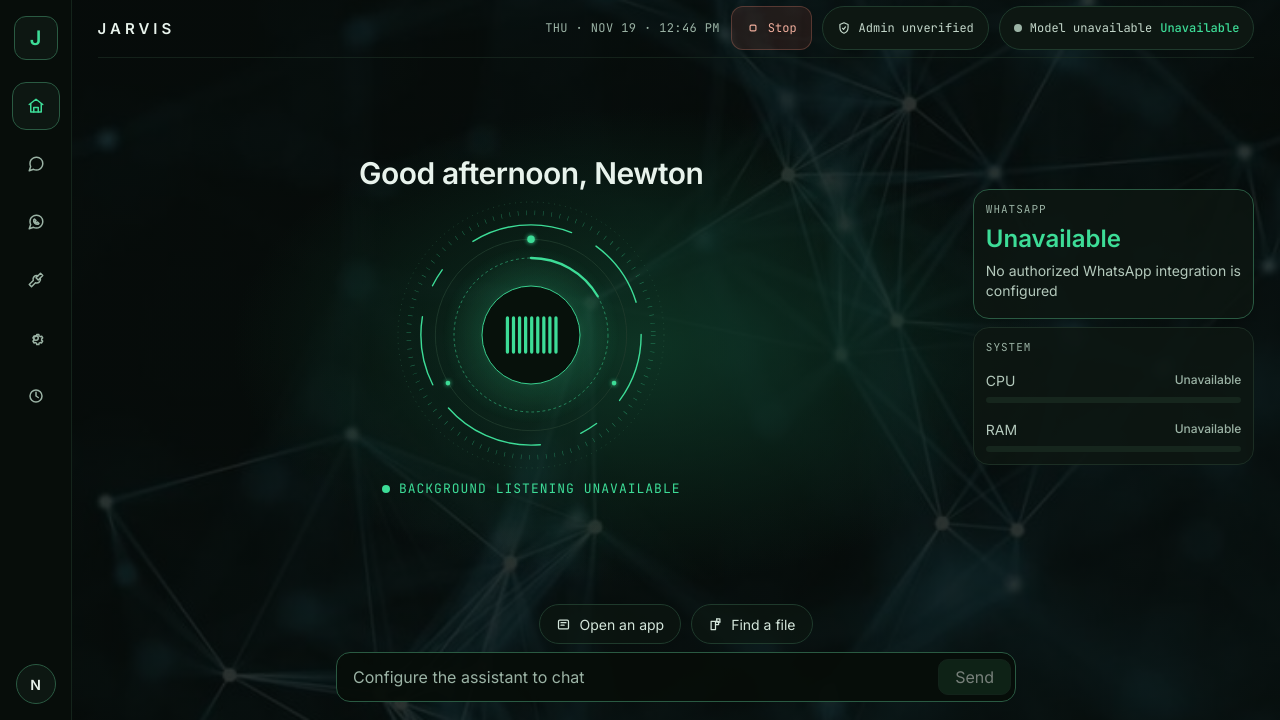
Test: JARVIS voice-first home › opens settings and tools inside the same JARVIS shell
Click the button named "Settings".
click(36, 338)  # box x1=12 y1=314 x2=60 y2=362
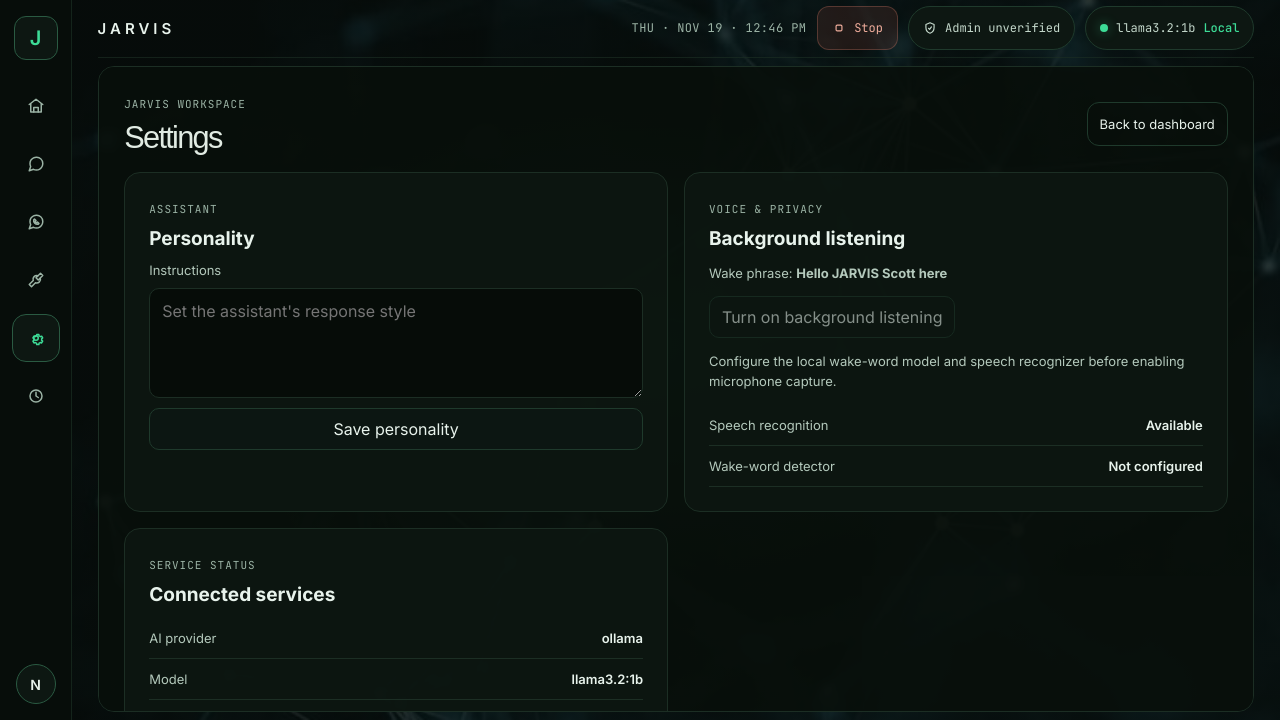
Check: the heading "Settings" is shown, box x1=124 y1=120 x2=222 y2=155
Check: the button "Turn on background listening" is disabled, box x1=709 y1=296 x2=956 y2=338
Click the button "Back to dashboard".
click(1157, 124)  # box x1=1087 y1=102 x2=1228 y2=146
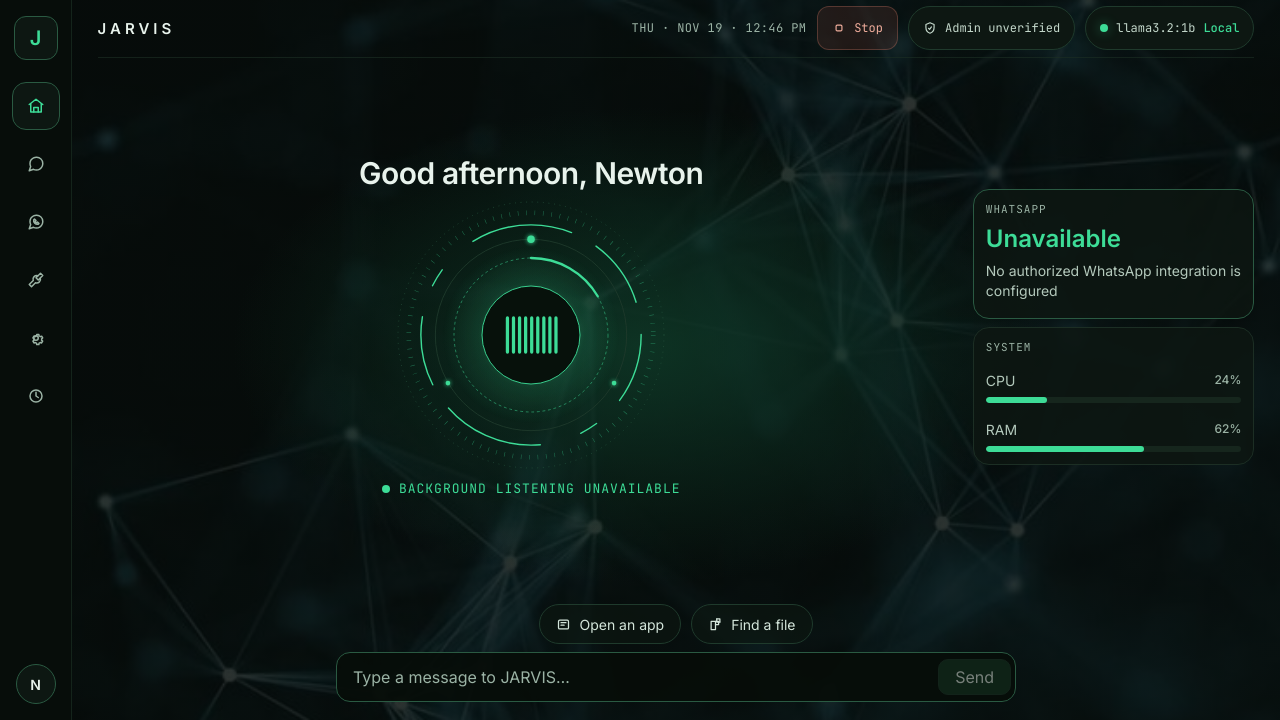
Click the button named "Tools".
click(36, 280)  # box x1=12 y1=256 x2=60 y2=304
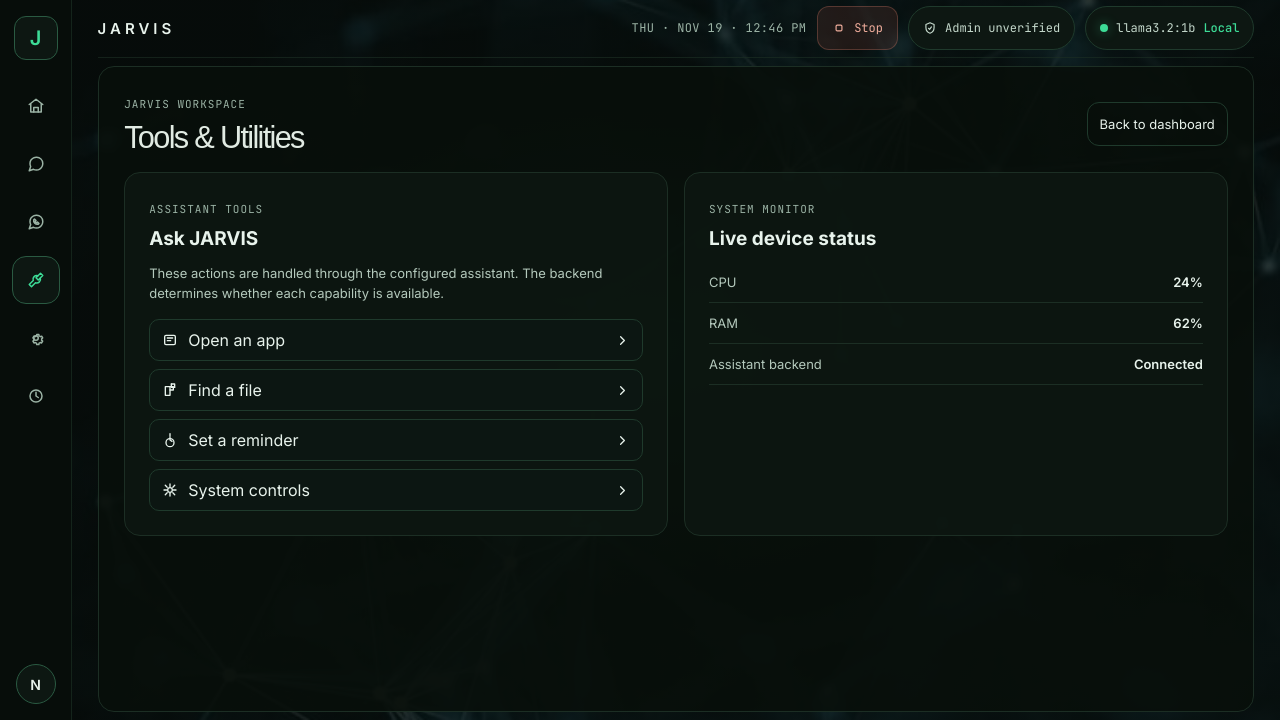
Check: the heading "Tools & Utilities" is shown, box x1=124 y1=120 x2=304 y2=156
Check: the heading "Live device status" is shown, box x1=709 y1=227 x2=876 y2=250
